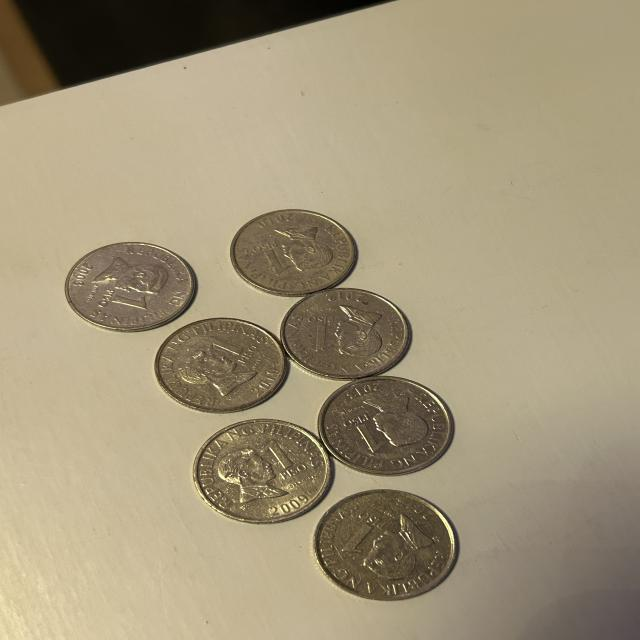1_Old_Front: (248, 437, 308, 485), (336, 406, 386, 458), (196, 332, 266, 369), (90, 285, 159, 322), (336, 511, 384, 557), (252, 237, 297, 285), (304, 311, 338, 358)
